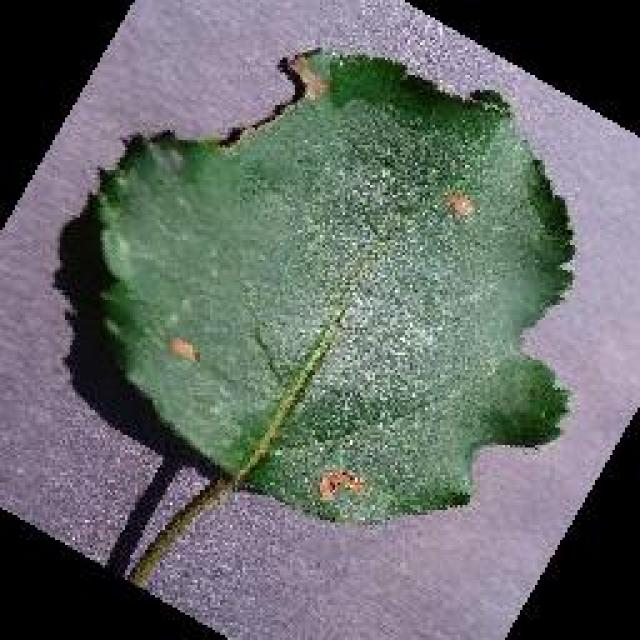apple scab disease: (85, 42, 577, 528)
